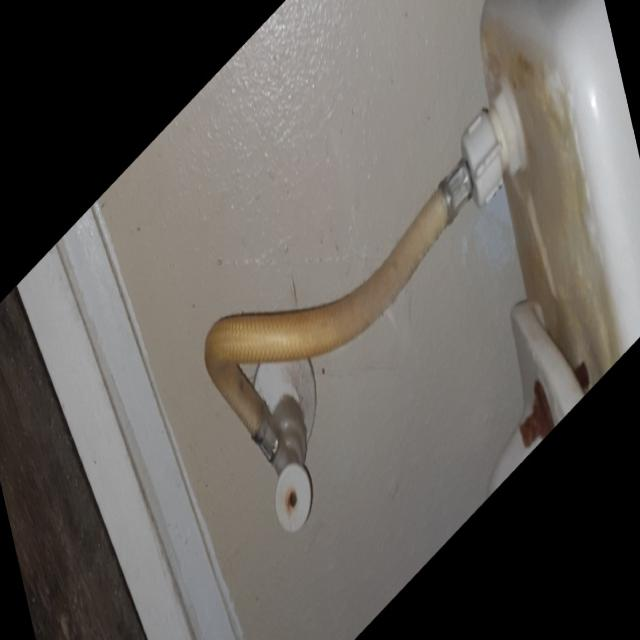bad_line: (192, 171, 449, 434)
good_coupler: (461, 100, 516, 202)
rusty_bolt: (518, 364, 555, 452)
